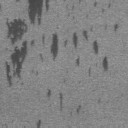red iron: (5, 0, 98, 86), (102, 56, 108, 71), (60, 93, 64, 110), (76, 105, 82, 114), (36, 119, 42, 128), (76, 58, 80, 66), (88, 67, 91, 77), (48, 89, 51, 98), (114, 24, 118, 30)
